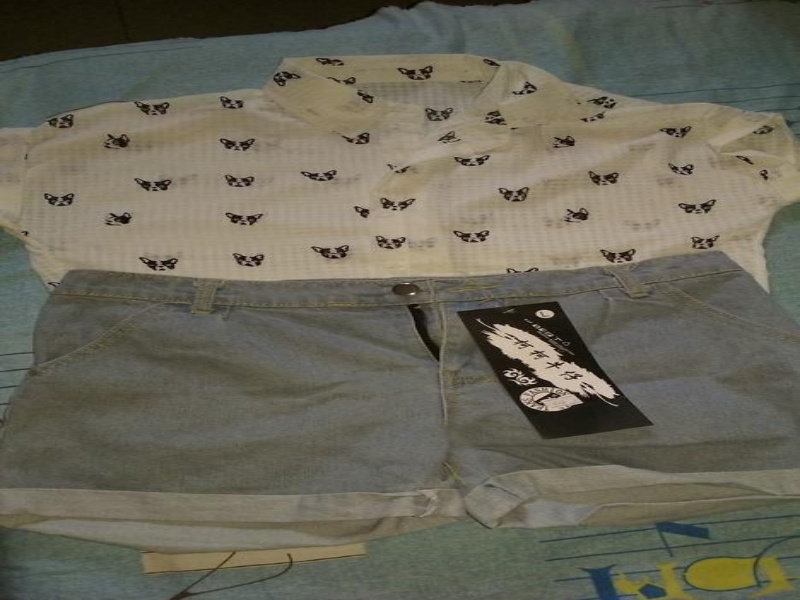short_sleeved_shirt: (2, 46, 797, 425)
shorts: (2, 245, 797, 556)
